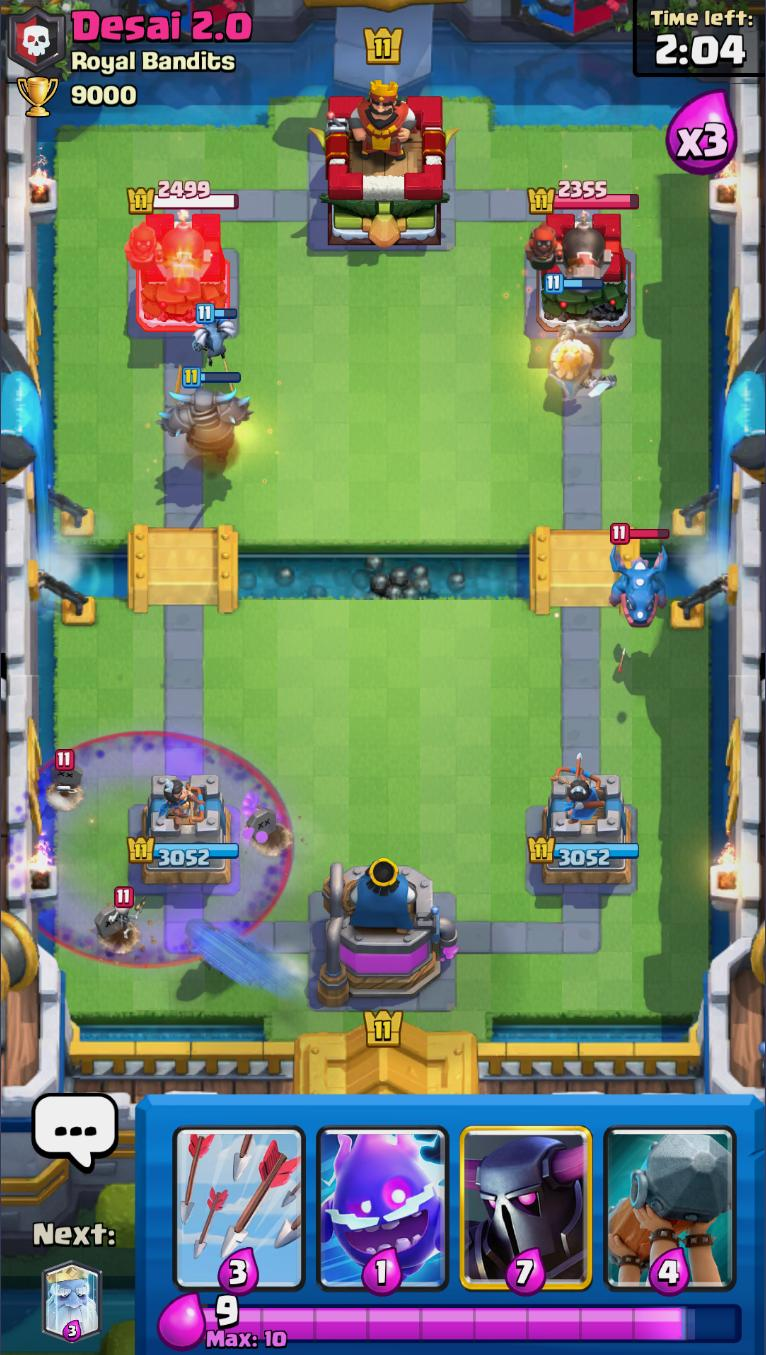ArrowDeck: (168, 1094, 311, 1295)
Cannoneer: (526, 212, 607, 298), (124, 214, 207, 297)
ElectroDragon: (608, 524, 672, 634)
ElectroSpiritDeck: (310, 1094, 456, 1295)
Elixir: (200, 1296, 745, 1350)
EnemyTower: (524, 209, 633, 333), (125, 207, 231, 332)
Graveyard: (18, 729, 291, 968)
KingTower: (310, 81, 461, 249)
MyBandit: (181, 919, 235, 967)
MyBattleRam: (600, 1095, 740, 1295)
MyKingTower: (314, 855, 460, 1007)
MyMinion: (190, 303, 239, 366)
MyPekka: (158, 360, 254, 459)
MyPrincessTower: (527, 770, 641, 886), (128, 773, 242, 888)
MyPrincessTowerHP: (127, 836, 240, 867), (527, 837, 640, 866)
MyRoyaleGhost: (542, 276, 618, 406)
PekkaDeck: (456, 1095, 601, 1295)
RoyaleGhostNext: (40, 1264, 105, 1341)
Skeleton: (107, 886, 146, 942), (48, 749, 87, 798)
TowerPrincessHP: (127, 178, 240, 212), (529, 179, 641, 211)
